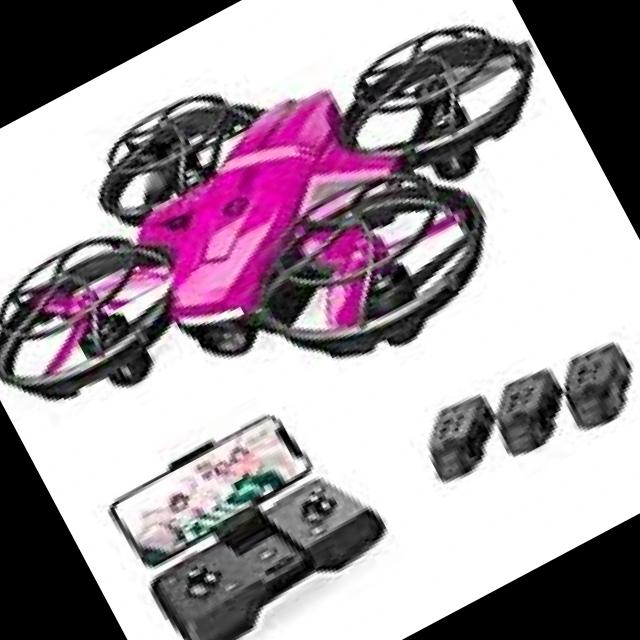drone: (0, 0, 631, 523)
